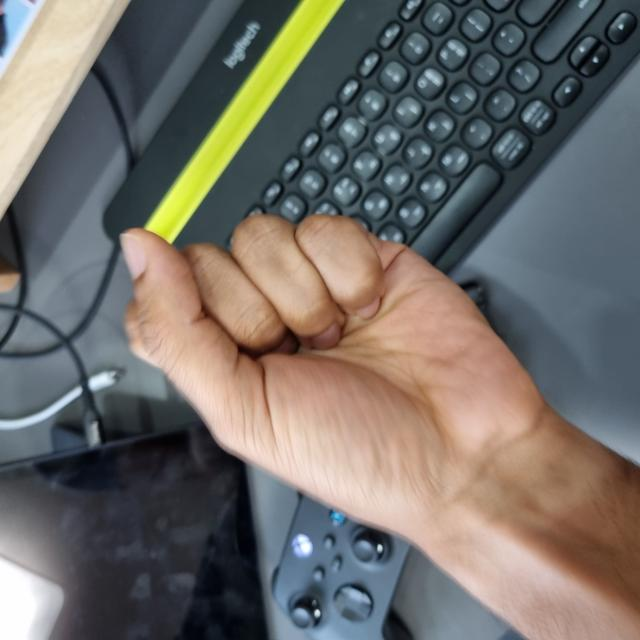Rock: (94, 122, 428, 546)
